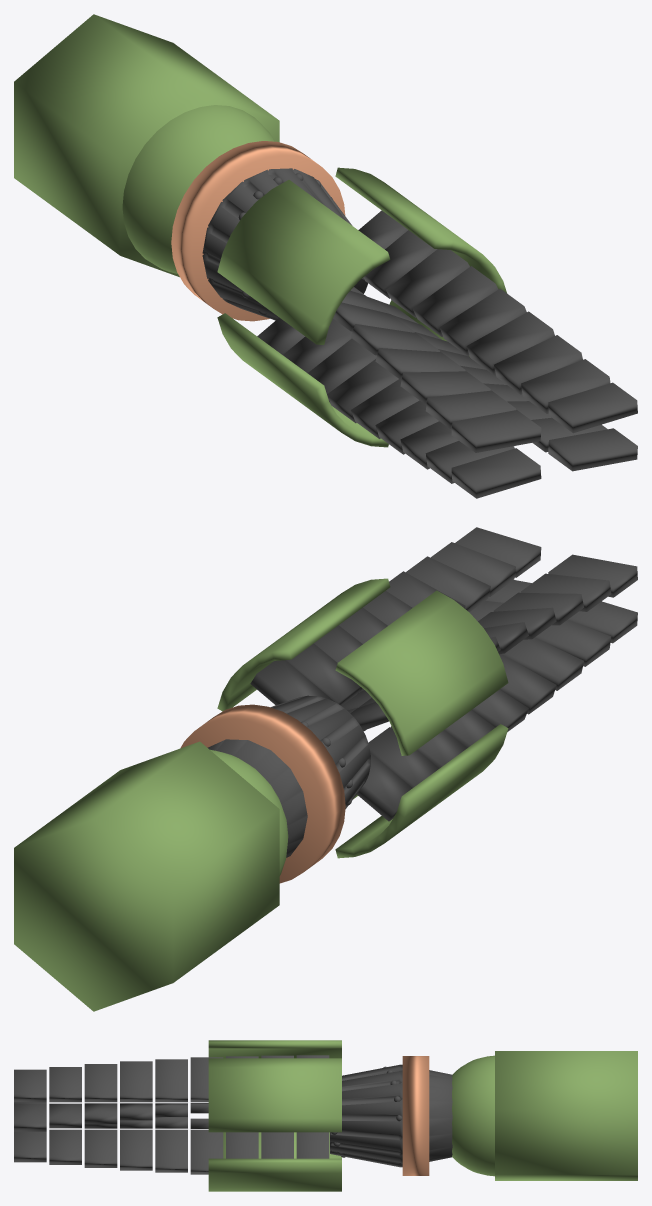
File: railgun_1785683532043_model.glb
3 renders of one model, top to bottom at view 1: azimuth 30°, elevation 25°; view 2: azimuth 150°, elevation 25°; view 3: azimuth 270°, elevation 25°, orthographic. The views are drawn at different scales.
Parts seen in each view (by area): view 1: Cylinder.003, Cylinder.001, Plate 10, Sphere, Cylinder.002, Plate 9, Plate 6, Plate 7, Plate 8, Plate 4, Plate 3, Cylinder (+2 smaller); view 2: Cylinder.003, Cylinder.001, Cylinder.002, Cylinder, Plate 9, Plate 10, Plate 8, Plate 1, Plate 7, Plate 2, Plate 6, Plate 4 (+2 smaller); view 3: Cylinder.003, Cylinder.001, Cylinder, Sphere, Plate 6, Plate 7, Plate 8, Cylinder.002, Plate 9, Plate 10, Plate 4, Plate 1 (+2 smaller).
Part boxes in pixels (x1,y1,x2,y2): Cylinder.003: (14,14,279,277); Cylinder.001: (217,167,506,447); Plate 10: (451,382,637,498); Sphere: (122,105,274,273); Cylinder.002: (171,141,345,321); Plate 9: (425,359,610,483); Plate 6: (350,288,526,438); Plate 7: (375,311,554,454); Plate 8: (400,335,582,469); Plate 4: (327,266,498,423); Plate 3: (307,249,469,403); Cylinder: (202,168,367,320); Cylinder.003: (14,741,279,1011); Cylinder.001: (217,578,508,858); Cylinder.002: (180,704,345,883); Cylinder: (207,695,370,857); Plate 9: (430,542,611,666); Plate 10: (455,527,637,643); Plate 8: (405,556,583,690); Plate 1: (250,660,412,821); Plate 7: (386,571,556,714); Plate 2: (286,643,439,787); Plate 6: (358,591,528,731); Plate 4: (339,607,500,747); Cylinder.003: (495,1051,637,1180); Cylinder.001: (208,1040,341,1191); Cylinder: (330,1064,452,1167); Sphere: (452,1055,494,1176); Plate 6: (155,1059,187,1172); Plate 7: (120,1061,152,1170); Plate 8: (84,1064,117,1167); Cylinder.002: (402,1056,429,1175); Plate 9: (49,1067,81,1164); Plate 10: (14,1069,46,1162); Plate 4: (190,1057,223,1174); Plate 1: (296,1055,329,1158).
Bounding box in the file's own units: 2.17 × 2.11 × 9.07.
